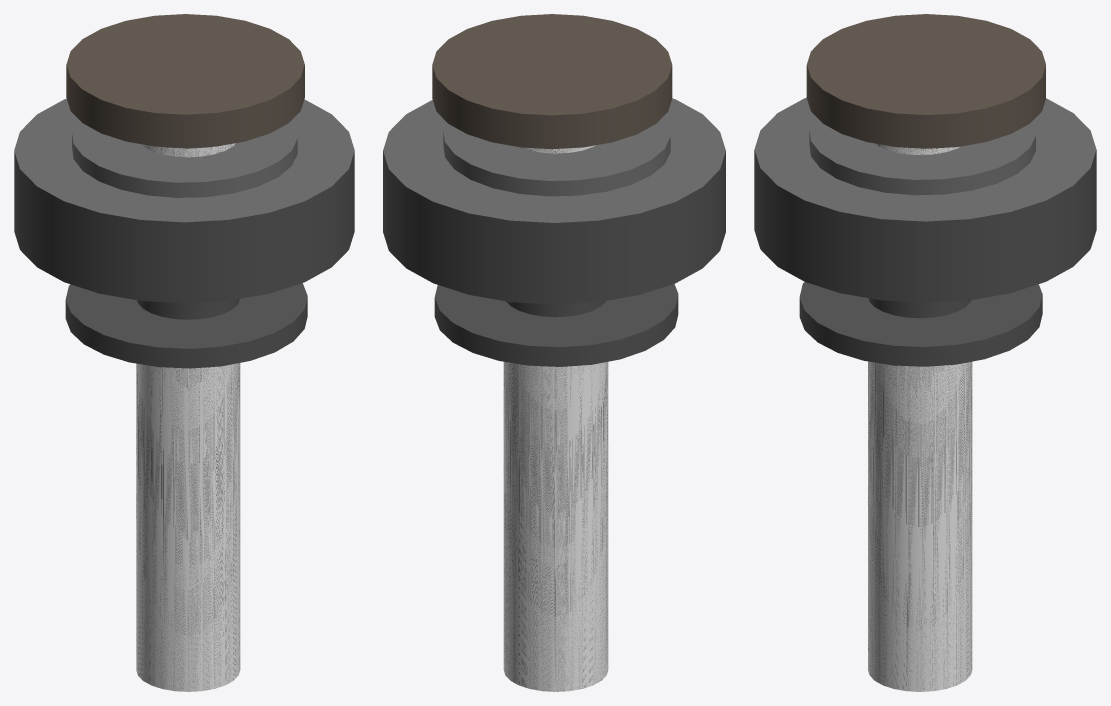
Rendered from trocar.dae.
3 renders of one model, left to right at view 1: azimuth 30°, elevation 25°; view 2: azimuth 150°, elevation 25°; view 3: azimuth 270°, elevation 25°, orthographic.
Visible parts, largest first — view 1: SketchUp (×8); view 2: SketchUp (×7); view 3: SketchUp (×7).
Boxes of the visible parts, x1,y1,x2,y2 form: SketchUp (×8): (14,14,354,691); SketchUp (×7): (383,14,725,691); SketchUp (×7): (754,14,1096,691).
Size of the model in its own units: 78.03 by 78.03 by 152.
